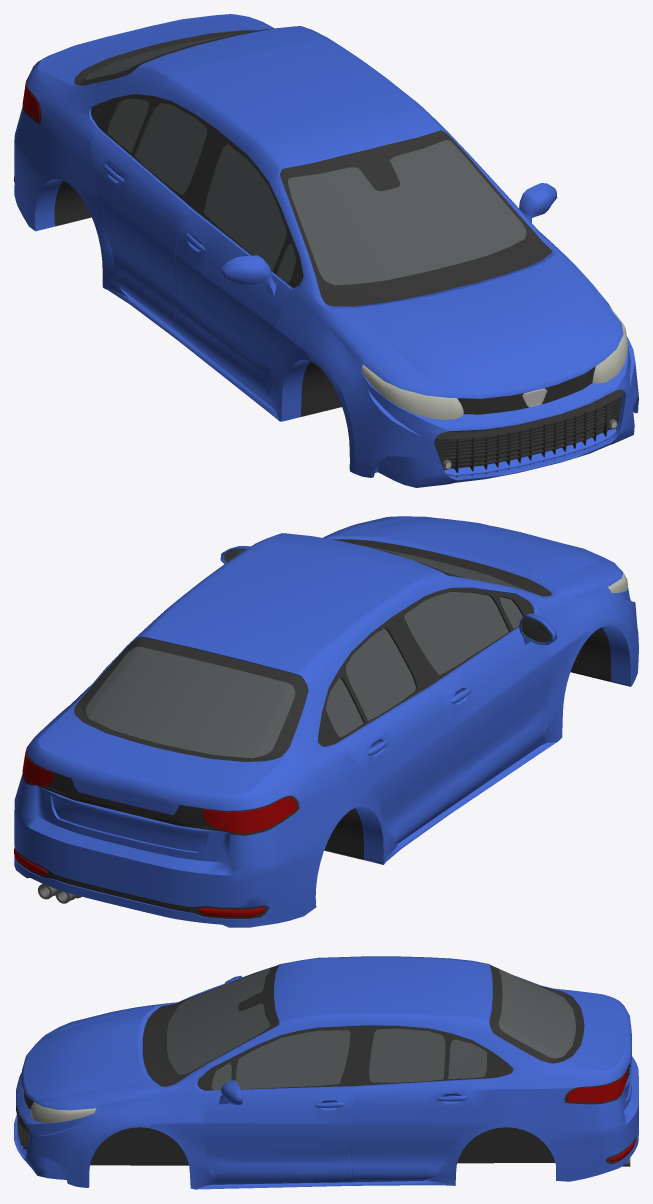
Rendered from car_body.fbx.
3 renders of one model, top to bottom at view 1: azimuth 30°, elevation 25°; view 2: azimuth 150°, elevation 25°; view 3: azimuth 270°, elevation 25°, orthographic. The views are drawn at different scales.
Visible parts, largest first — view 1: car_body; view 2: car_body; view 3: car_body.
Boxes of the visible parts, box(x1,y1,x2,y2) form: car_body: box(14, 14, 638, 487); car_body: box(14, 516, 638, 927); car_body: box(14, 956, 638, 1189).
Bounding box in the file's own units: 205 × 124 × 448.
